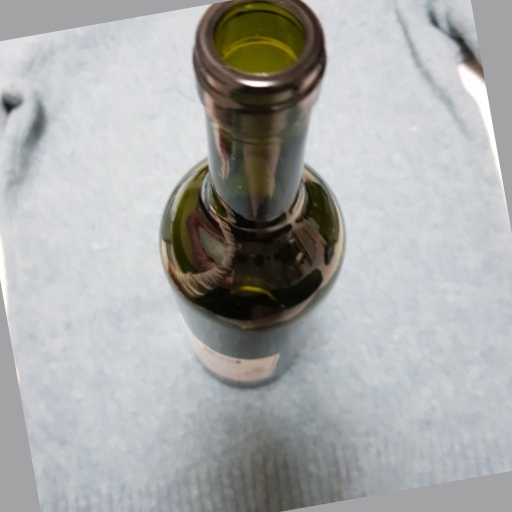Glass_2: (155, 5, 347, 395)
